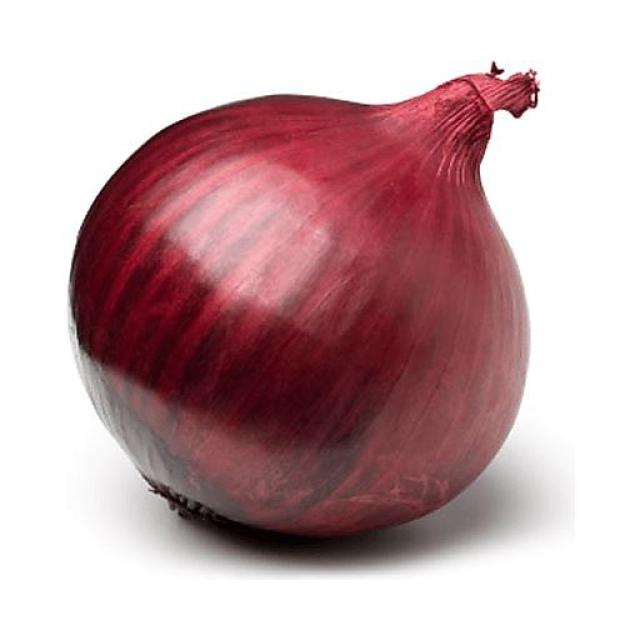onion: (66, 92, 536, 540)
